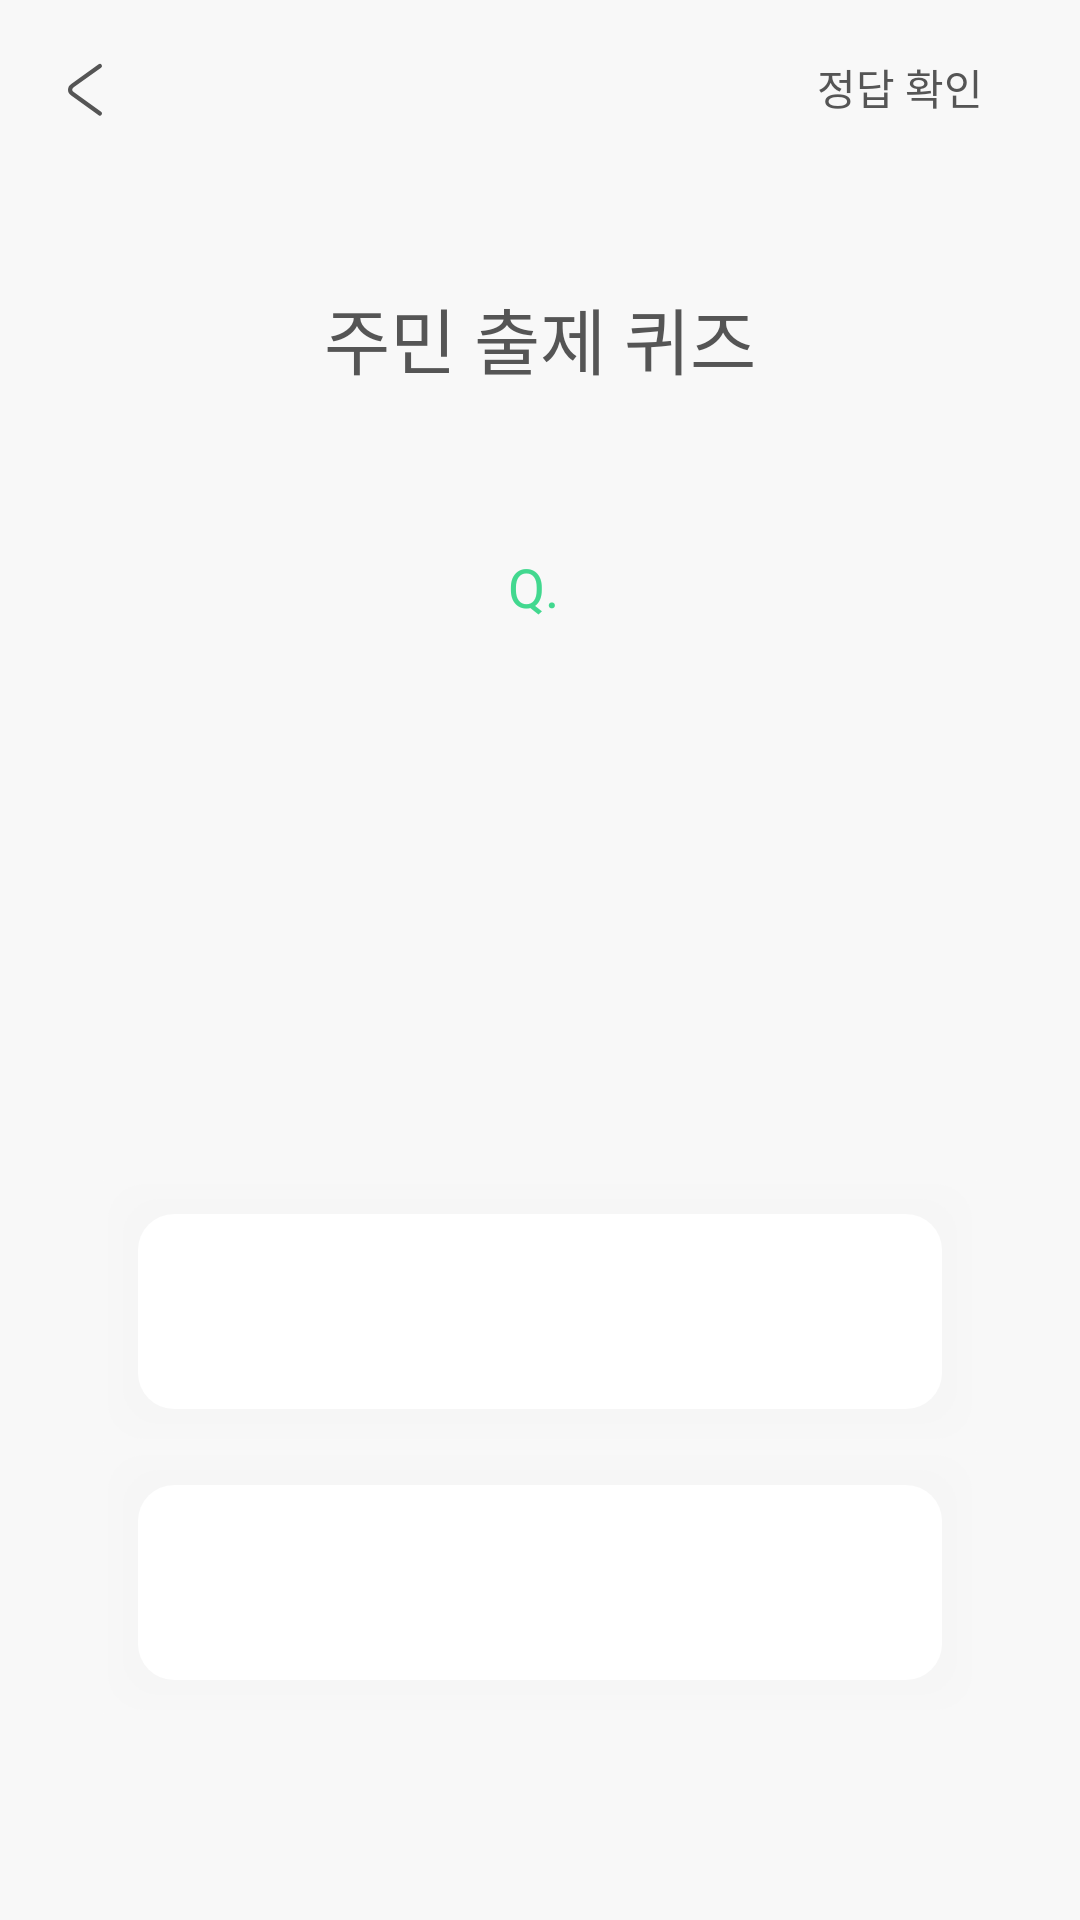

Where to tap for icons on this 1080 × 1920 app screen, as (x,y):
arrow back: (85,90)
